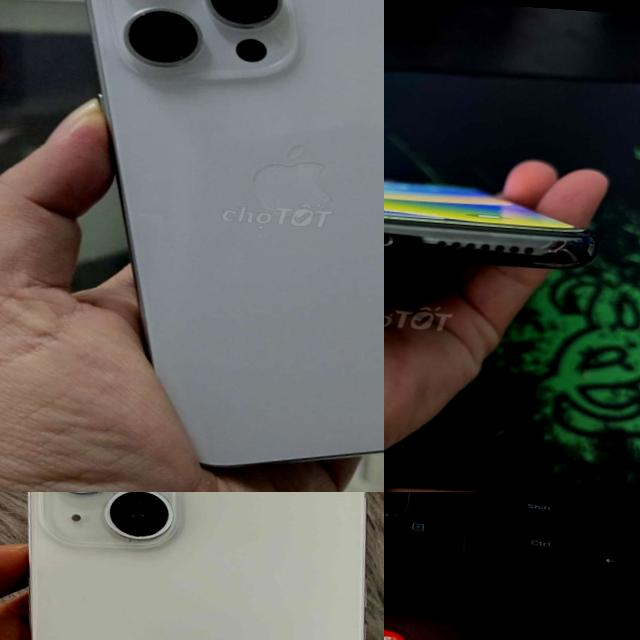scratch: (37, 492, 176, 548)
